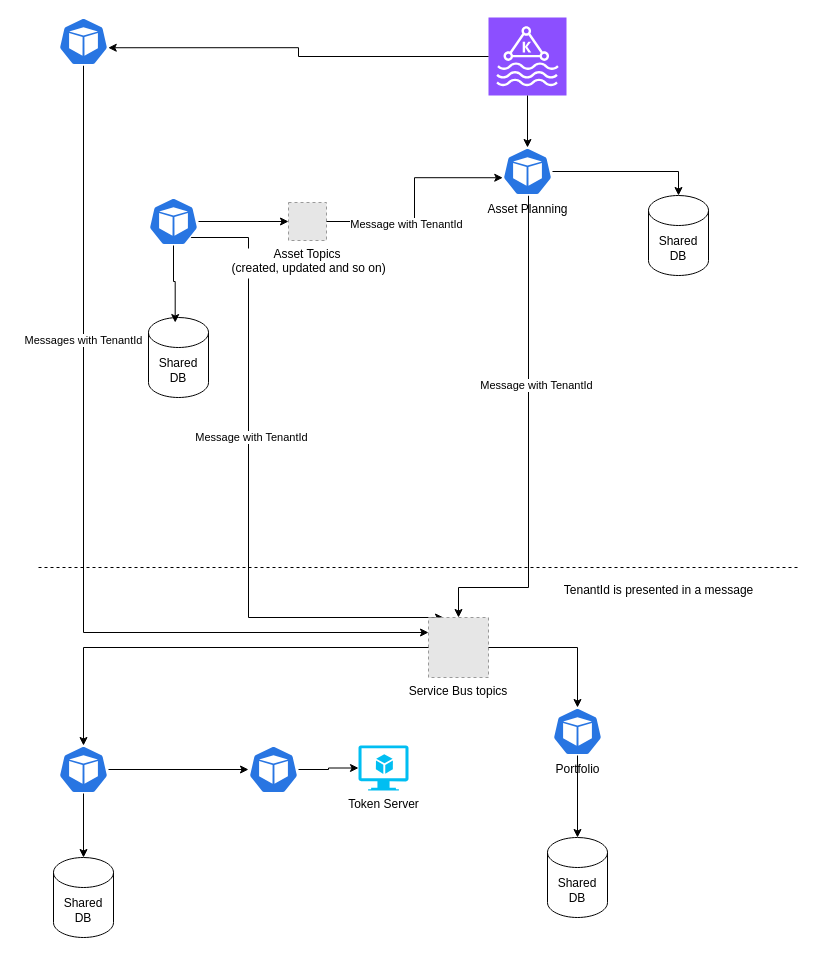
Image size: 817x955. Some labels were removed from this diagram. Grey dashed boxes stand in for pictures. Here are the shapes that lost their labels. From the top down, the centre of each, then its label:
point (83, 41): MarketInteraction
point (173, 221): Asset Service
point (83, 769): Fleet Optimizer Gateway
point (273, 769): Fleet Optimizer Solver
